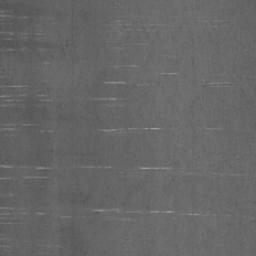Waist folding: (0, 14, 256, 249), (204, 19, 229, 29), (202, 80, 229, 86)
